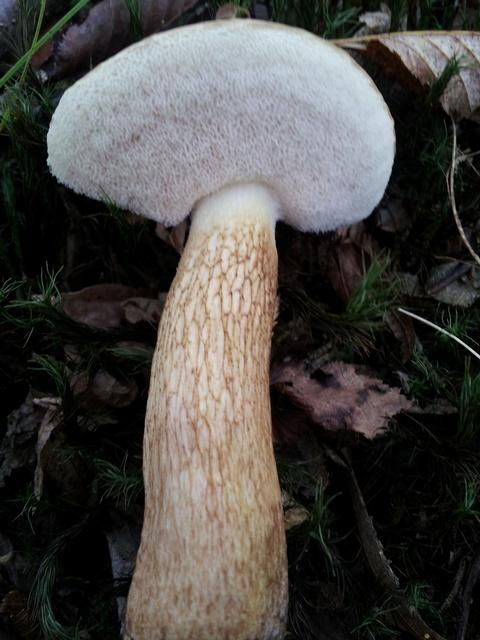poisonous_mushroom: (44, 16, 397, 638)
